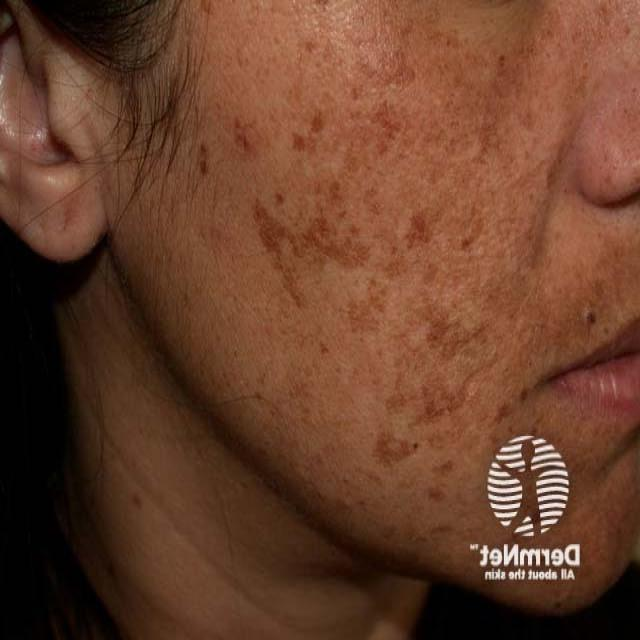Melasma: (190, 5, 602, 522)
